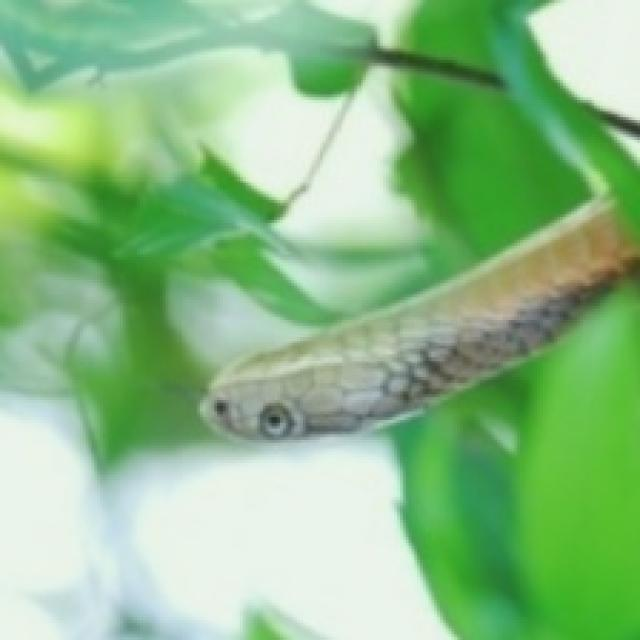king cobra: (200, 0, 637, 434)
